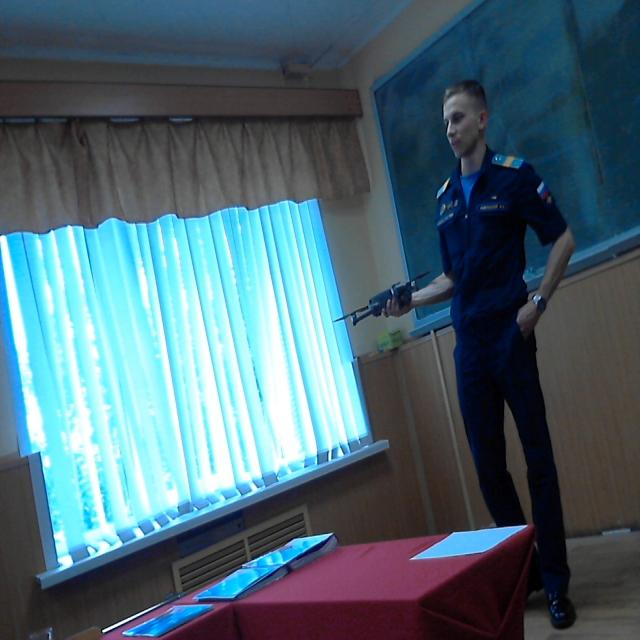drone: (327, 271, 457, 330)
